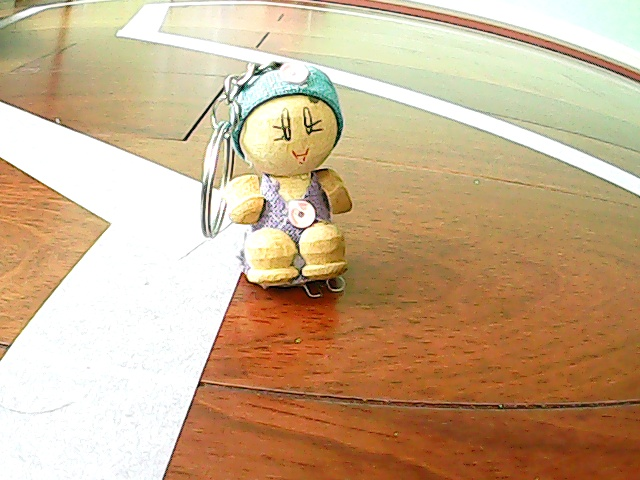pedestrain: (195, 51, 373, 302)
